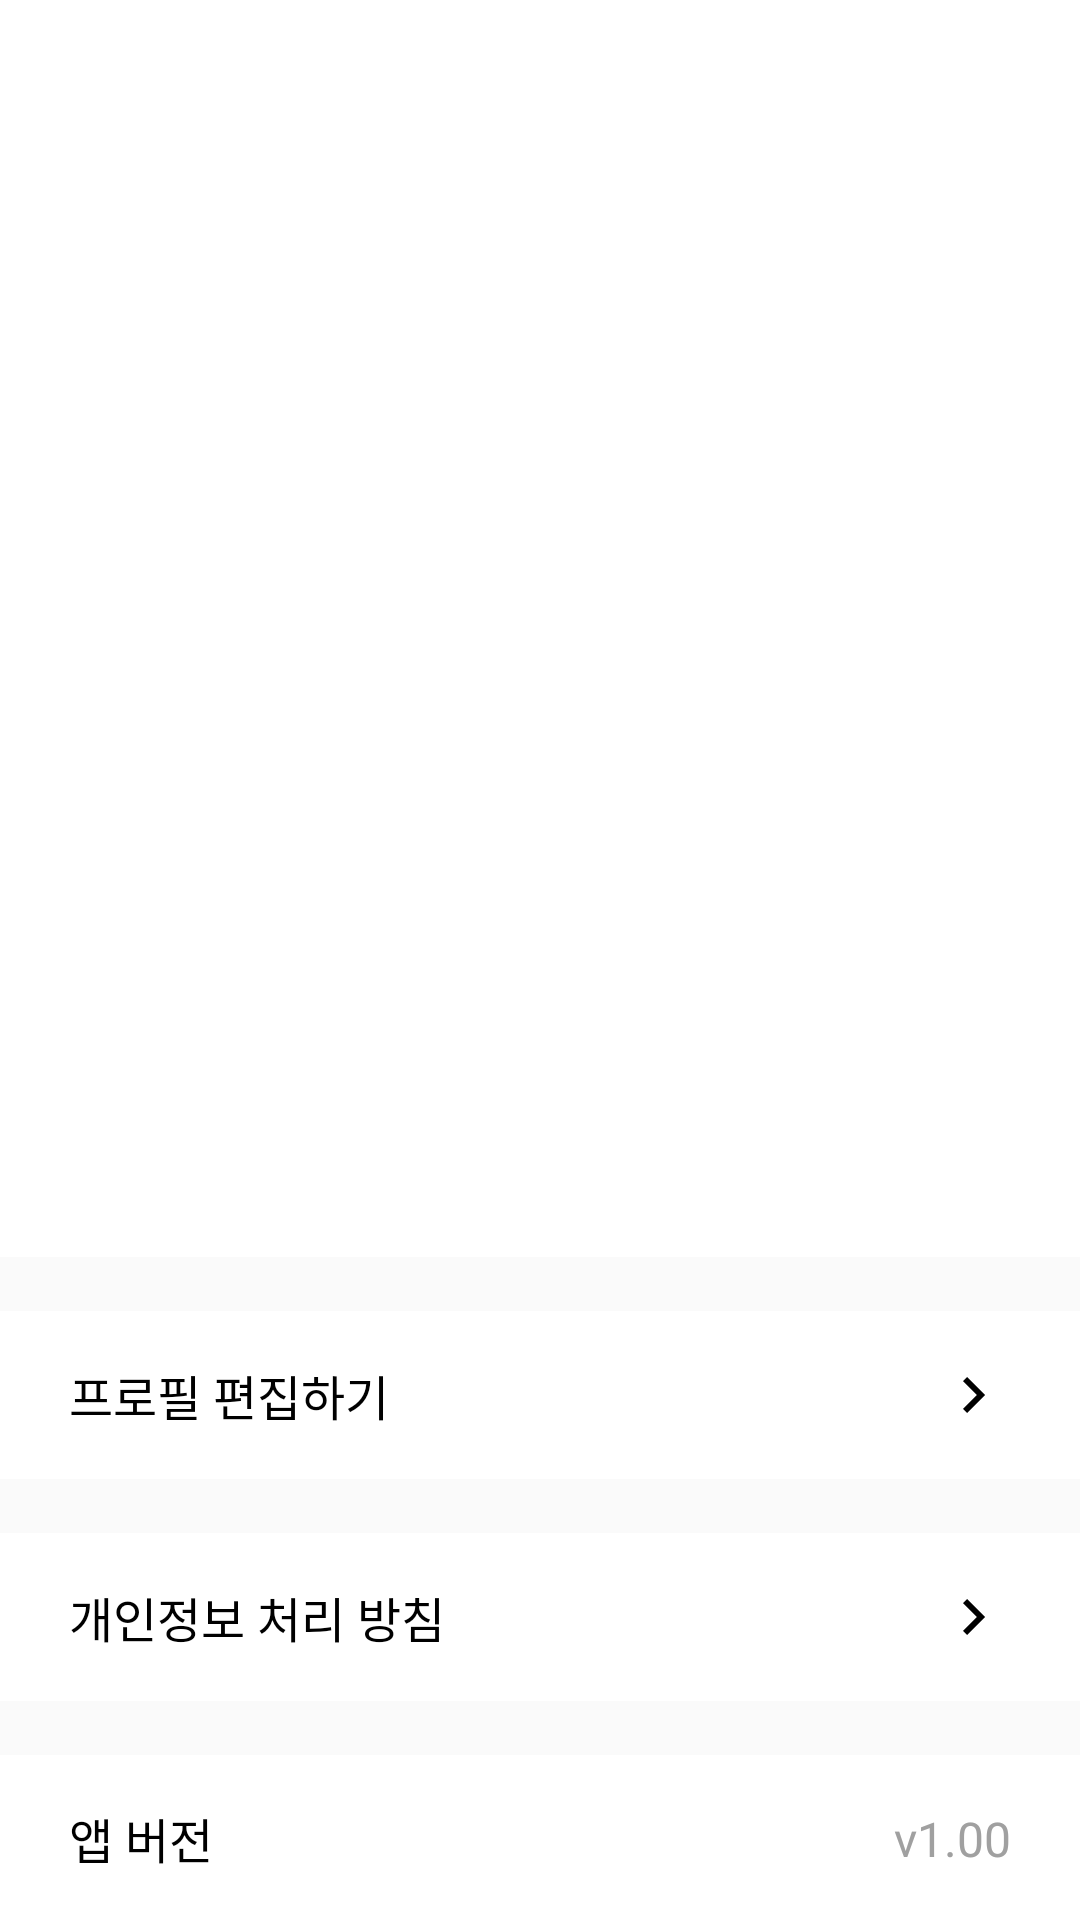

Named icons in this screenshot (1080x1920) and their centers, point (x, y):
enter: point (974, 1395), point (974, 1617)
